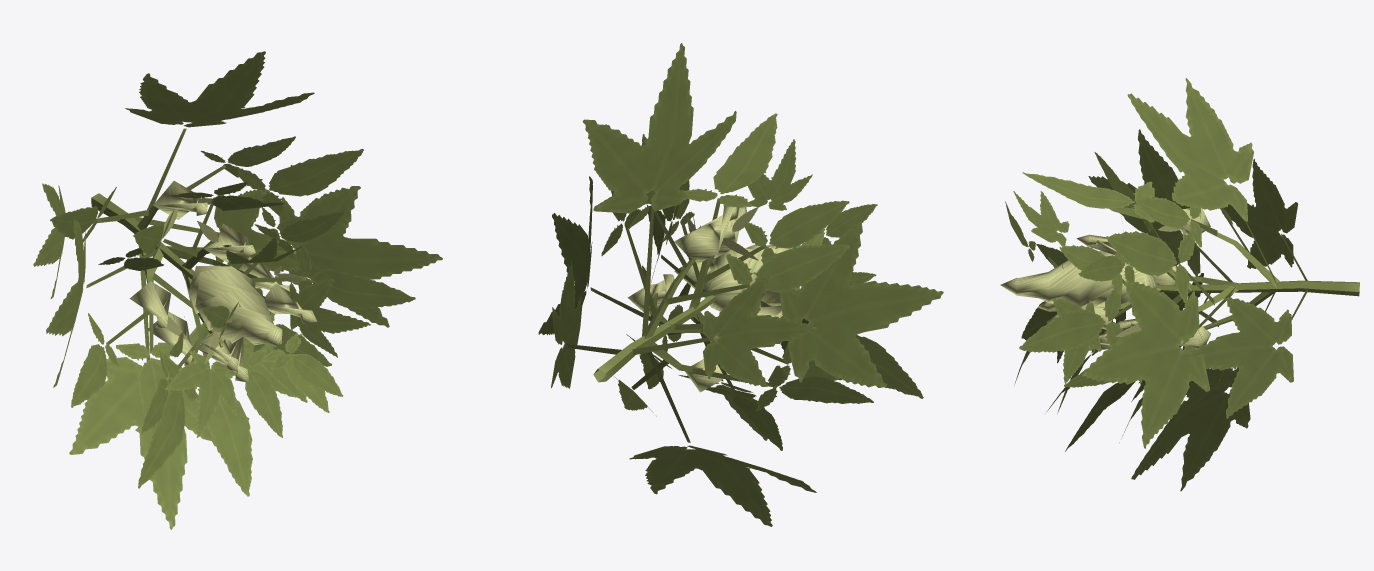
Rendered from p_frosty_auto_flowering_c1_cards.obj.
3 renders of one model, left to right at view 1: azimuth 30°, elevation 25°; view 2: azimuth 150°, elevation 25°; view 3: azimuth 270°, elevation 25°, orthographic. The views are drawn at different scales.
Bounding box in the file's own units: 1.29 × 1.48 × 0.935.
1 material, 1 textured.
